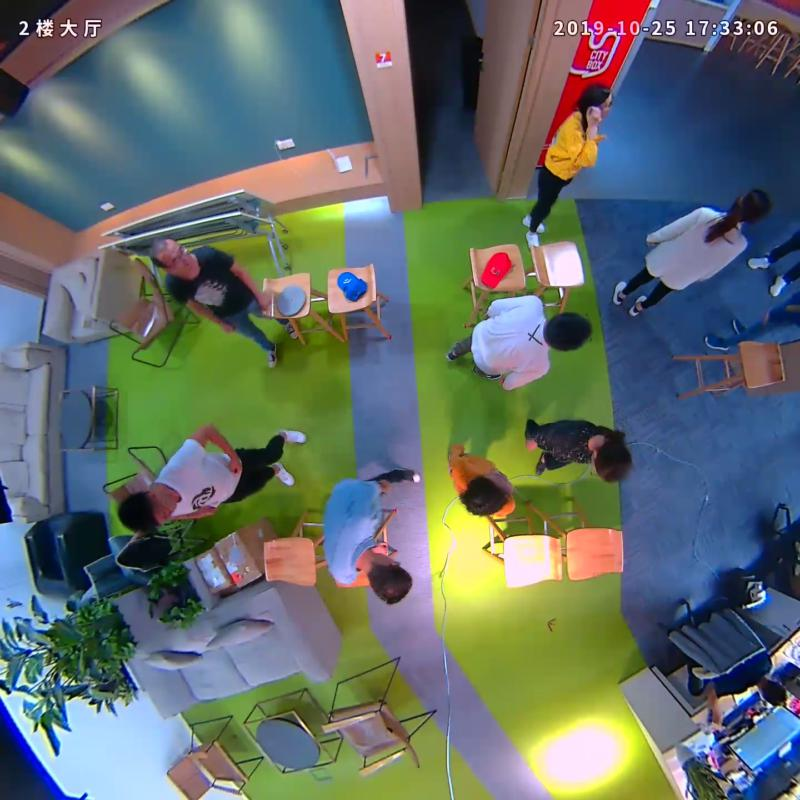head: (115, 482, 185, 542), (356, 544, 417, 611), (581, 429, 640, 495), (566, 80, 635, 129), (143, 235, 211, 284), (461, 471, 519, 525), (538, 304, 596, 357), (728, 186, 778, 230)
